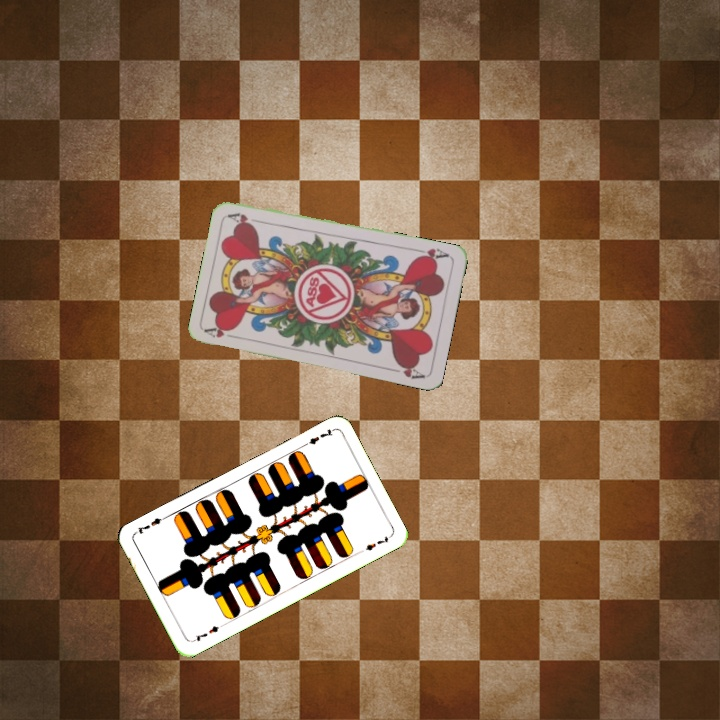E7: (298, 425, 336, 450), (188, 620, 226, 644)
HA: (202, 321, 242, 342), (412, 244, 451, 264)
